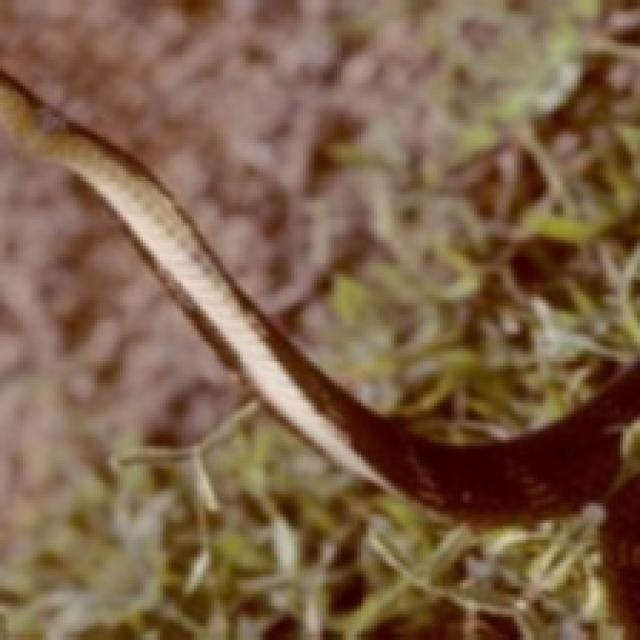king cobra: (0, 74, 637, 637), (0, 134, 637, 637), (0, 0, 637, 440), (520, 43, 637, 194)
